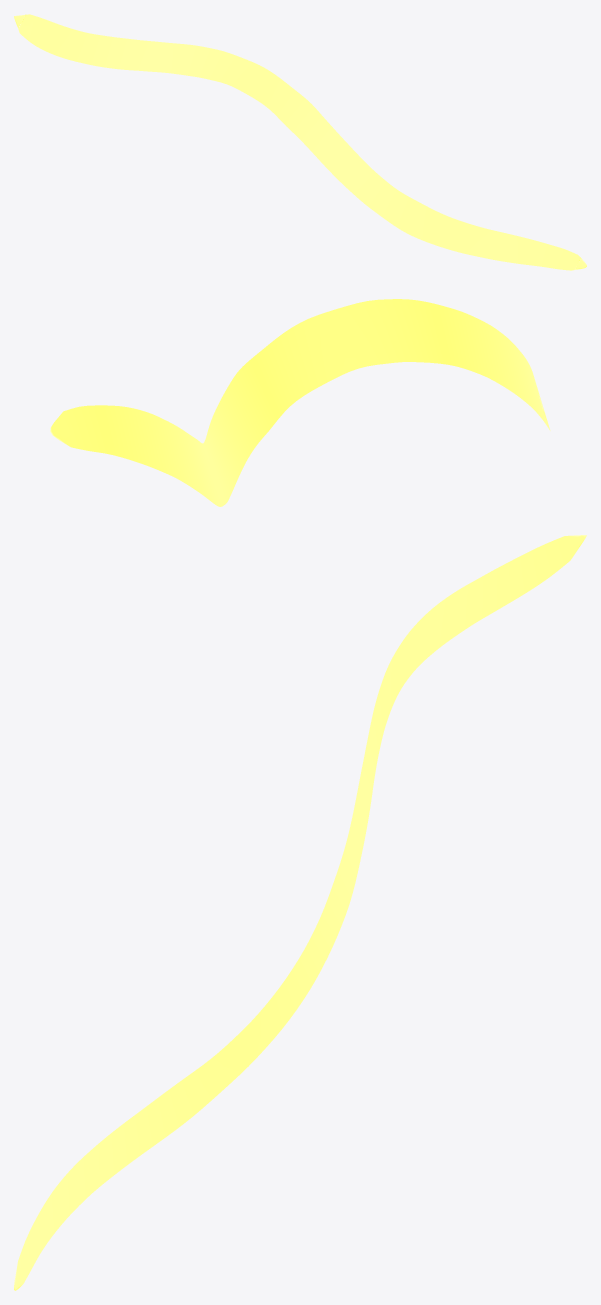
The model's file is Fusili.009.gltf.
The picture shows the model from 3 angles, top to bottom: view 1: azimuth 30°, elevation 25°; view 2: azimuth 150°, elevation 25°; view 3: azimuth 270°, elevation 25°; orthographic projection. The views are drawn at different scales.
Parts seen in each view (by area): view 1: Fusili.009; view 2: Fusili.009; view 3: Fusili.009.
Boxes of the visible parts, x1,y1,x2,y2 form: Fusili.009: (14, 14, 586, 270); Fusili.009: (50, 299, 550, 506); Fusili.009: (14, 535, 586, 1290).
Size of the model in its own units: 4.54 by 2.52 by 3.14.
